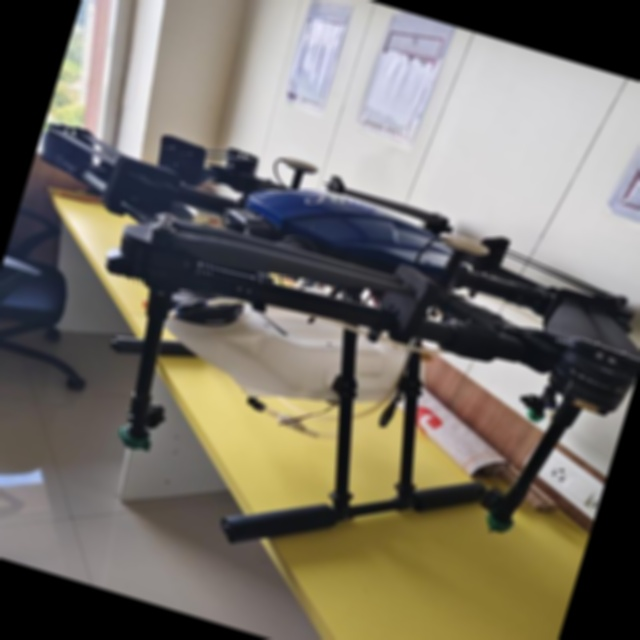agriculturedrone: (0, 78, 640, 640)
